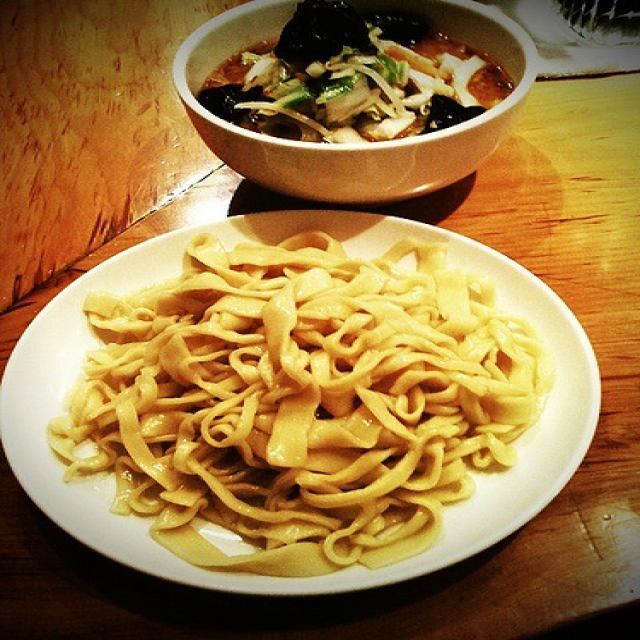面条主食: (32, 4, 589, 566)
